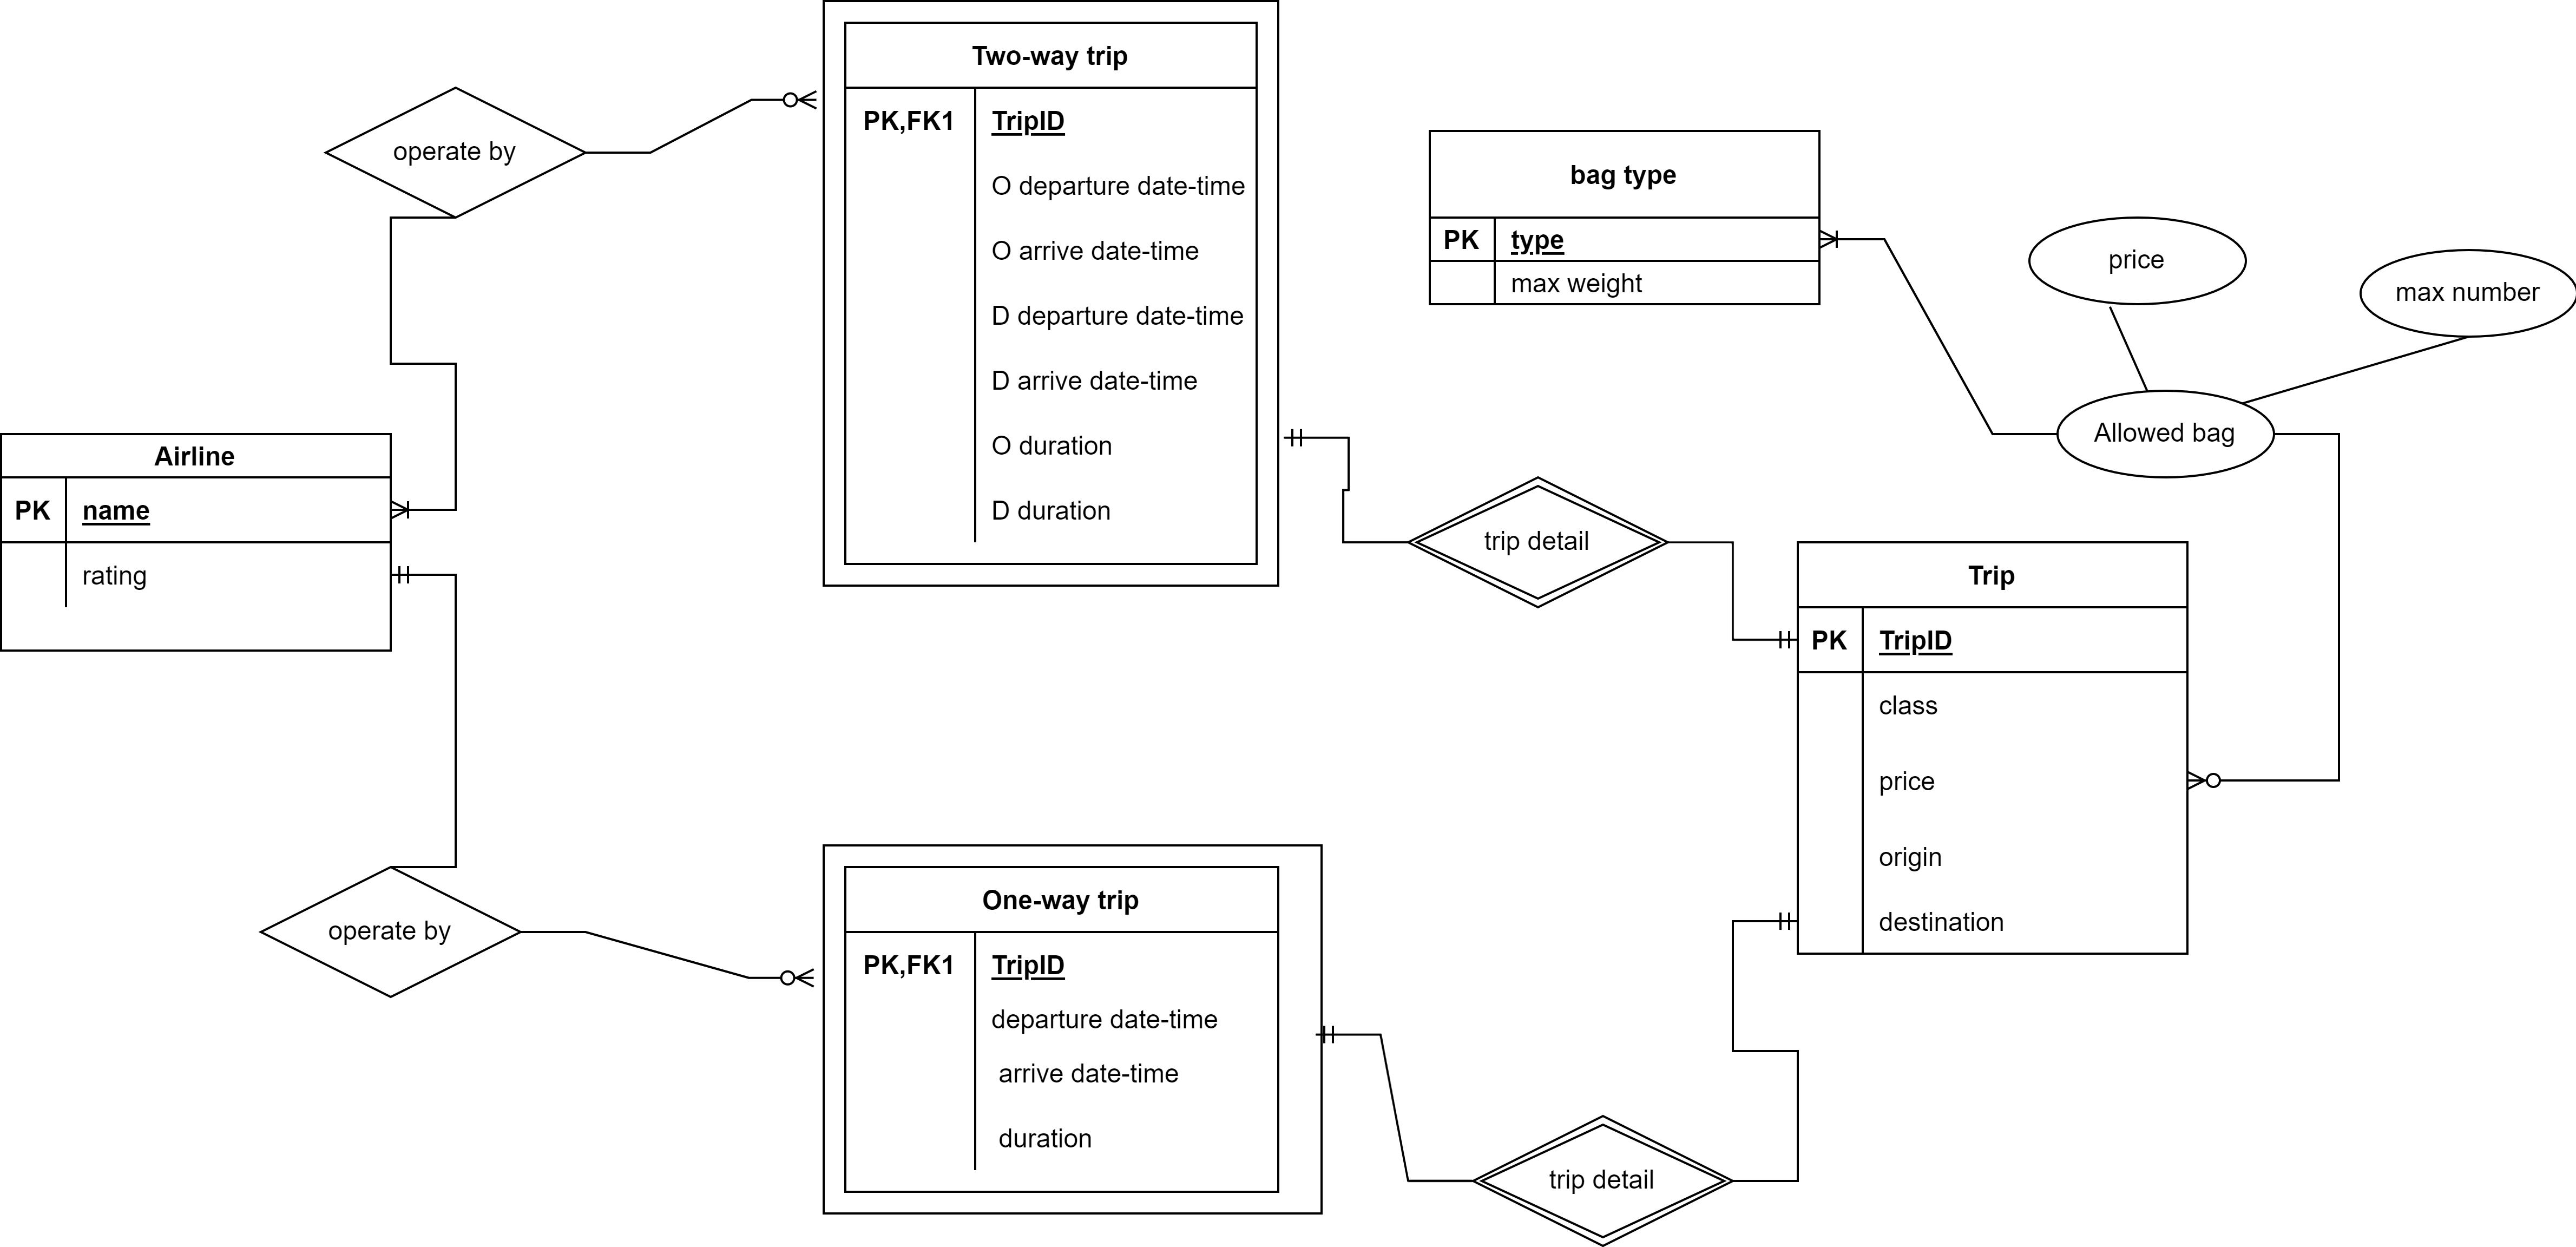attribute: (2359, 251, 2576, 338), (2031, 219, 2246, 306), (2060, 394, 2272, 478)
entity: (1789, 534, 2195, 958), (0, 430, 396, 659), (1421, 122, 1820, 311)
relationship: (324, 82, 585, 217), (263, 867, 516, 996)
weakentity: (818, 0, 1280, 591), (823, 835, 1326, 1219)
weakrelationship: (1474, 1119, 1733, 1247), (1410, 478, 1659, 611)
